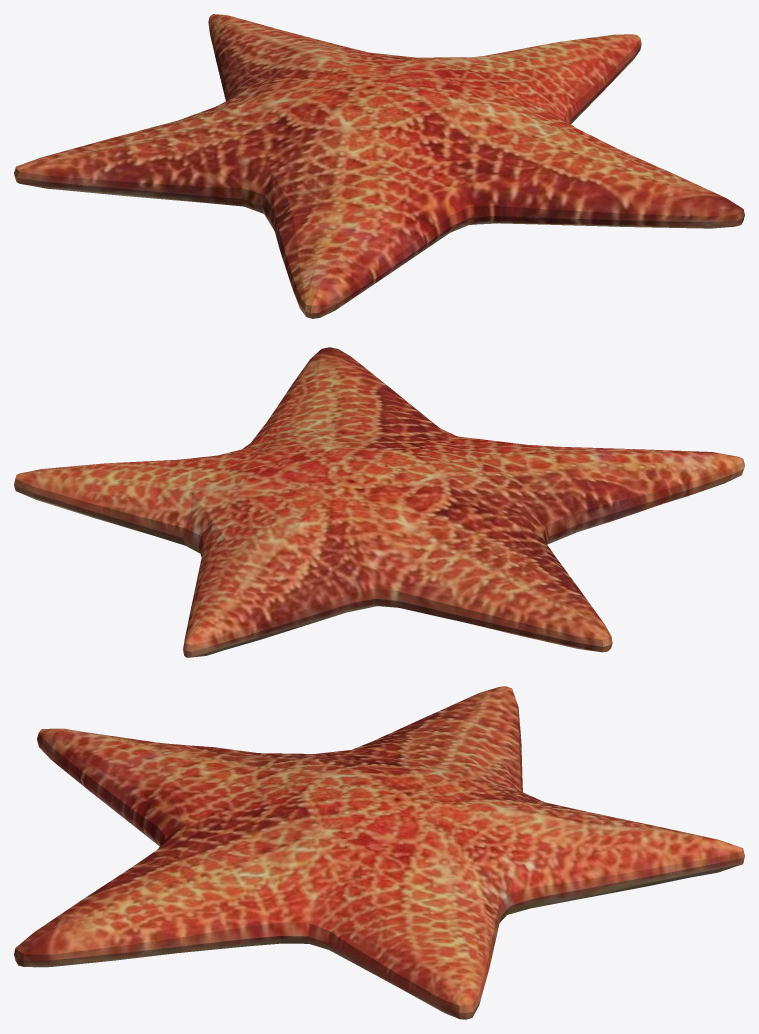
The model's file is starfish.glb.
3 views of the same model, one above another, from view 1: azimuth 30°, elevation 25°; view 2: azimuth 150°, elevation 25°; view 3: azimuth 270°, elevation 25° (orthographic). The views are drawn at different scales.
Parts seen in each view (by area): view 1: starfish; view 2: starfish; view 3: starfish.
Part boxes in pixels (left/top/right/bottom): starfish: left=14, top=14, right=744, bottom=318; starfish: left=14, top=347, right=744, bottom=657; starfish: left=14, top=686, right=744, bottom=1019.
Bounding box in the file's own units: 1 × 0.1066 × 0.9646.
1 material, 1 textured.
